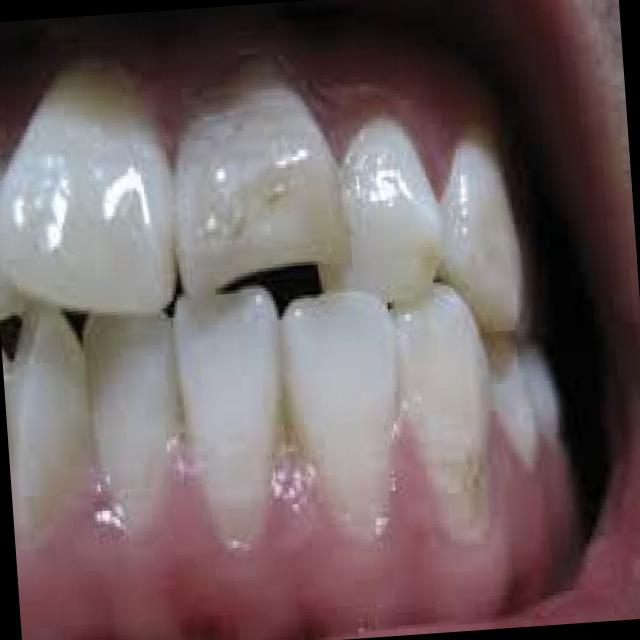Tooth: (0, 59, 177, 317), (173, 78, 354, 299), (274, 288, 397, 544), (176, 288, 288, 540), (390, 282, 493, 541), (317, 123, 449, 306), (80, 310, 182, 518), (1, 306, 91, 503), (437, 127, 523, 333), (487, 333, 541, 467)
